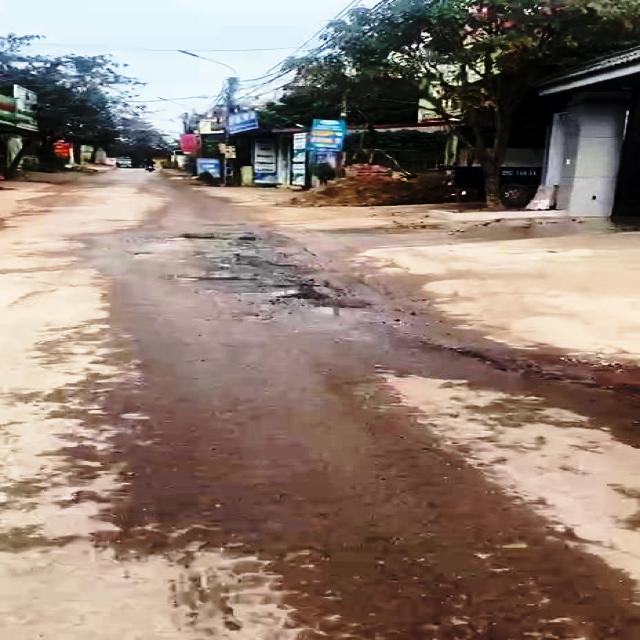pothole: (162, 268, 364, 314), (218, 254, 306, 277)
